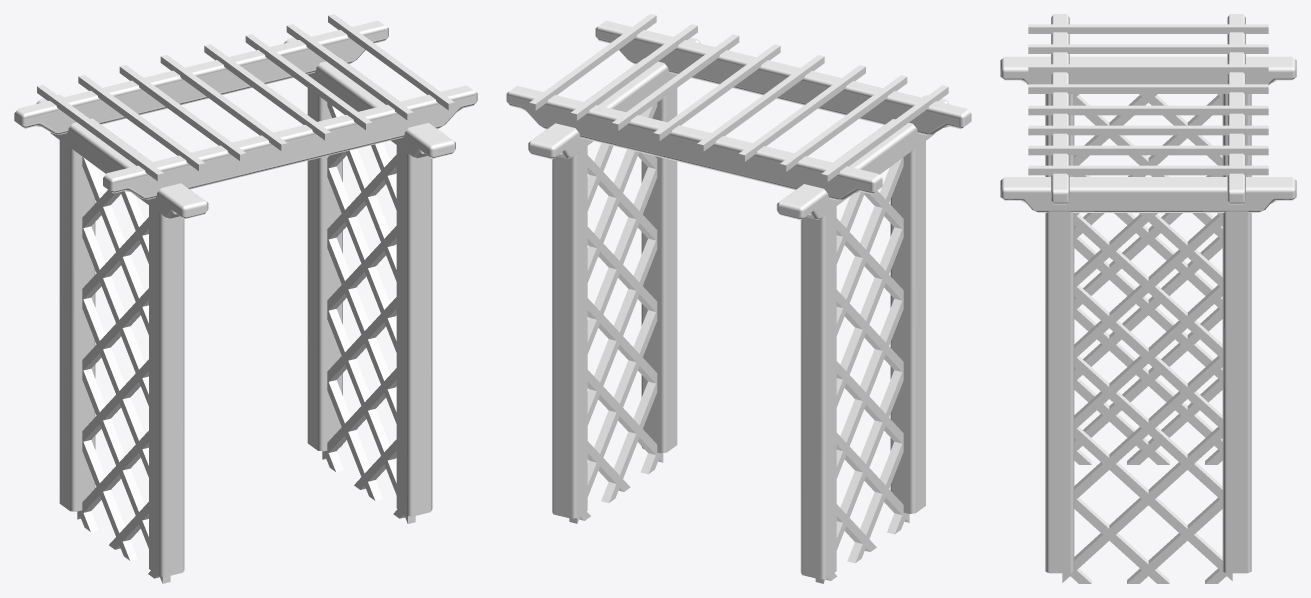
Rendered from GardenArch.fbx.
3 views of the same model, side by side, from view 1: azimuth 30°, elevation 25°; view 2: azimuth 150°, elevation 25°; view 3: azimuth 270°, elevation 25° (orthographic).
Parts seen in each view (by area): view 1: GardenArch; view 2: GardenArch; view 3: GardenArch.
Boxes of the visible parts, x1,y1,x2,y2 form: GardenArch: [14, 14, 477, 583]; GardenArch: [506, 14, 971, 583]; GardenArch: [1000, 14, 1296, 583].
Bounding box in the file's own units: 290 × 323 × 204.
